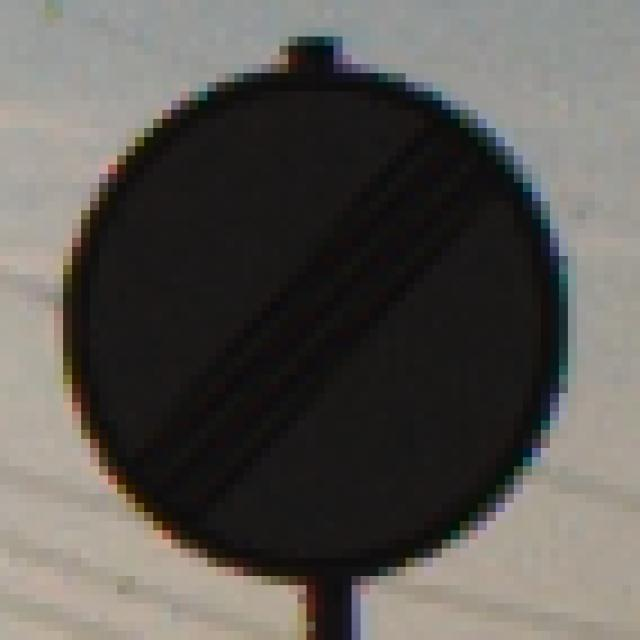restriction ends: (56, 52, 585, 589)
